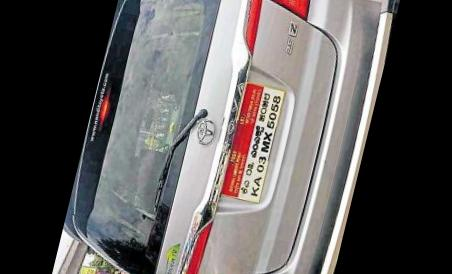plate: (211, 67, 298, 220)
